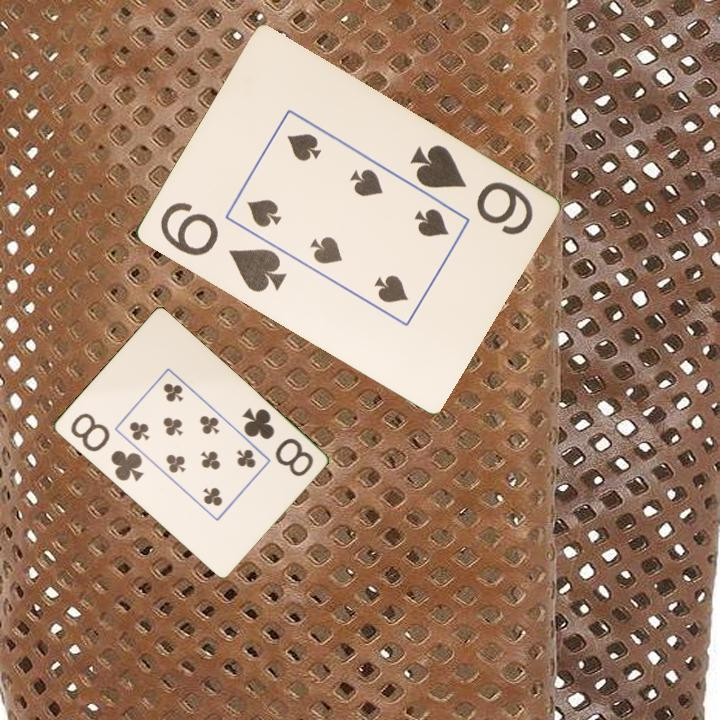6s: (155, 198, 289, 296), (405, 141, 536, 239)
8c: (67, 409, 146, 485), (238, 404, 316, 480)
